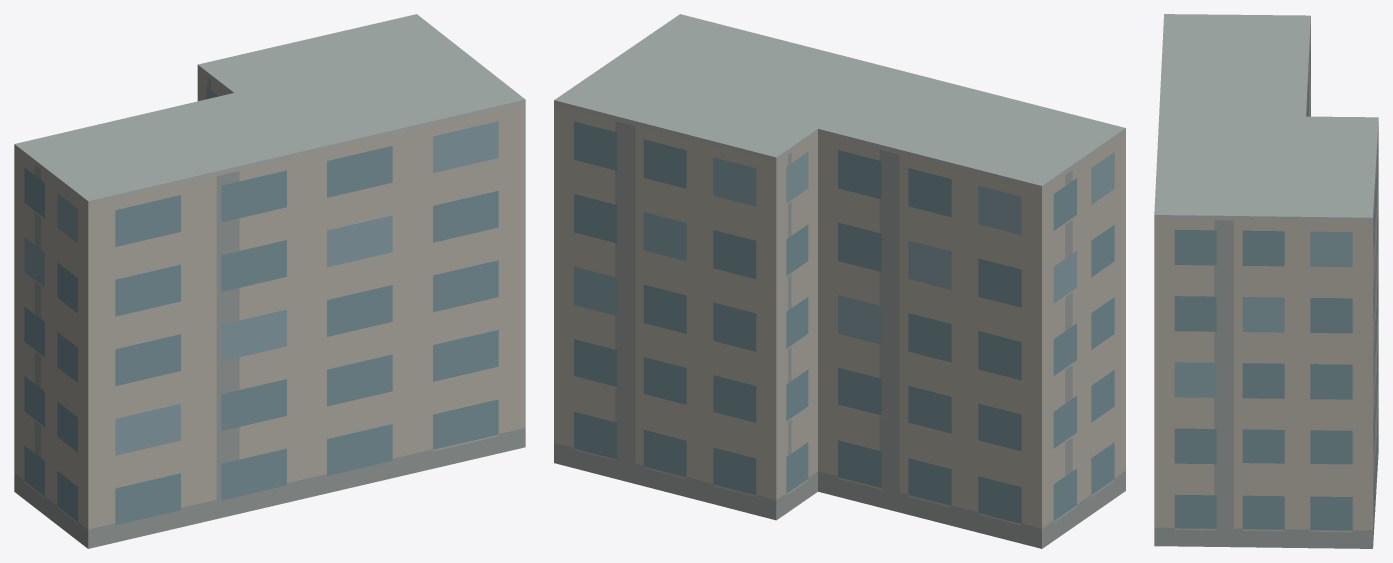
Rendered from survey-upis-32840266.glb.
The picture shows the model from 3 angles, left to right: view 1: azimuth 30°, elevation 25°; view 2: azimuth 150°, elevation 25°; view 3: azimuth 270°, elevation 25°; orthographic projection. The views are drawn at different scales.
Parts seen in each view (by area): view 1: survey-upis-32840266.tmp; view 2: survey-upis-32840266.tmp; view 3: survey-upis-32840266.tmp.
Part boxes in pixels (left/top/right/bottom): survey-upis-32840266.tmp: left=14, top=14, right=525, bottom=548; survey-upis-32840266.tmp: left=554, top=14, right=1125, bottom=548; survey-upis-32840266.tmp: left=1154, top=14, right=1378, bottom=548.
Bounding box in the file's own units: 22.95 × 17.39 × 10.69.
